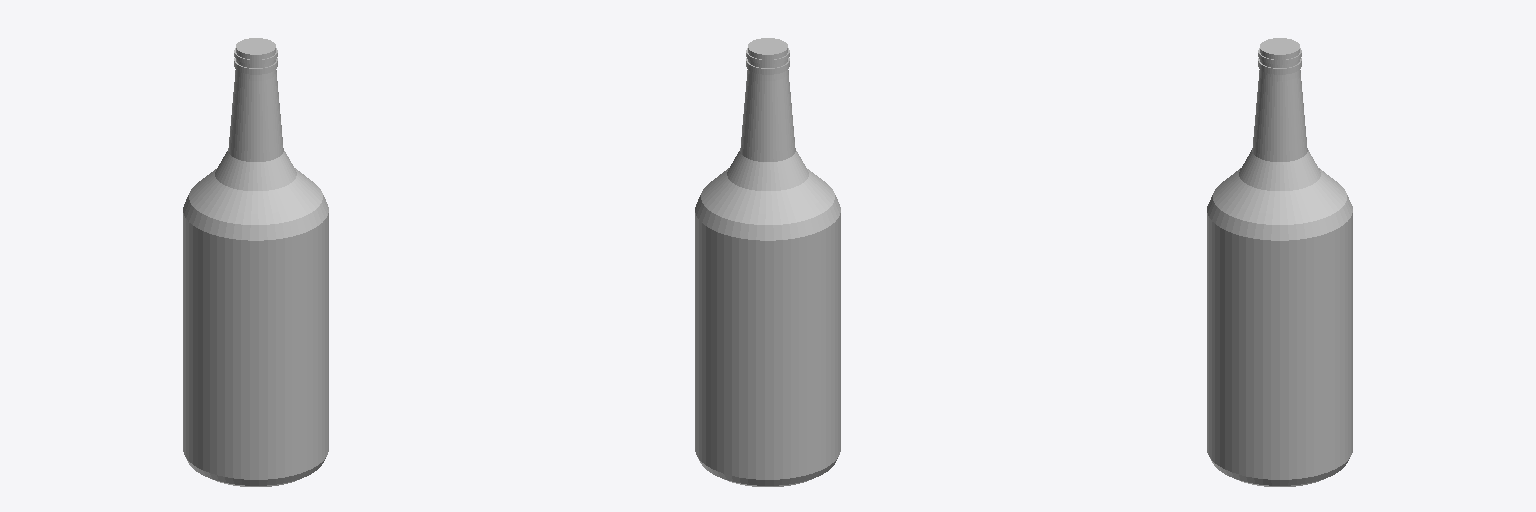
File: Botella.obj
3 renders of one model, left to right at view 1: azimuth 30°, elevation 25°; view 2: azimuth 150°, elevation 25°; view 3: azimuth 270°, elevation 25°, orthographic.
Visible parts, largest first — view 1: Cylinder; view 2: Cylinder; view 3: Cylinder.
Part boxes in pixels (x1,y1,x2,y2): Cylinder: (183, 38, 328, 486); Cylinder: (695, 38, 840, 486); Cylinder: (1207, 38, 1352, 486).
Size of the model in its own units: 1.3 by 4.1 by 1.3.